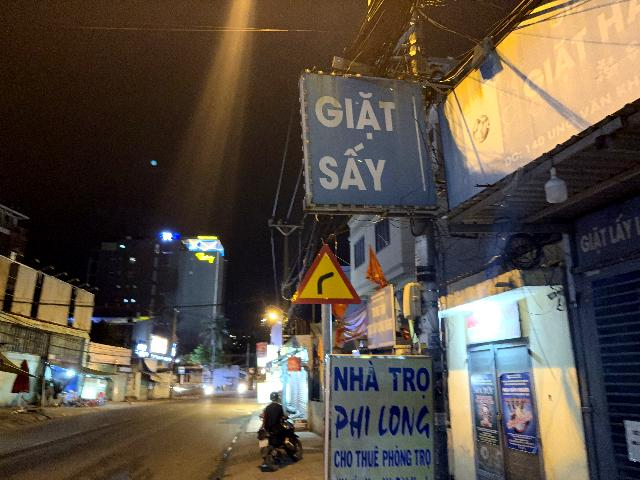cho-ngoat-nguy-hiem-ben-phai: (291, 242, 363, 305)
